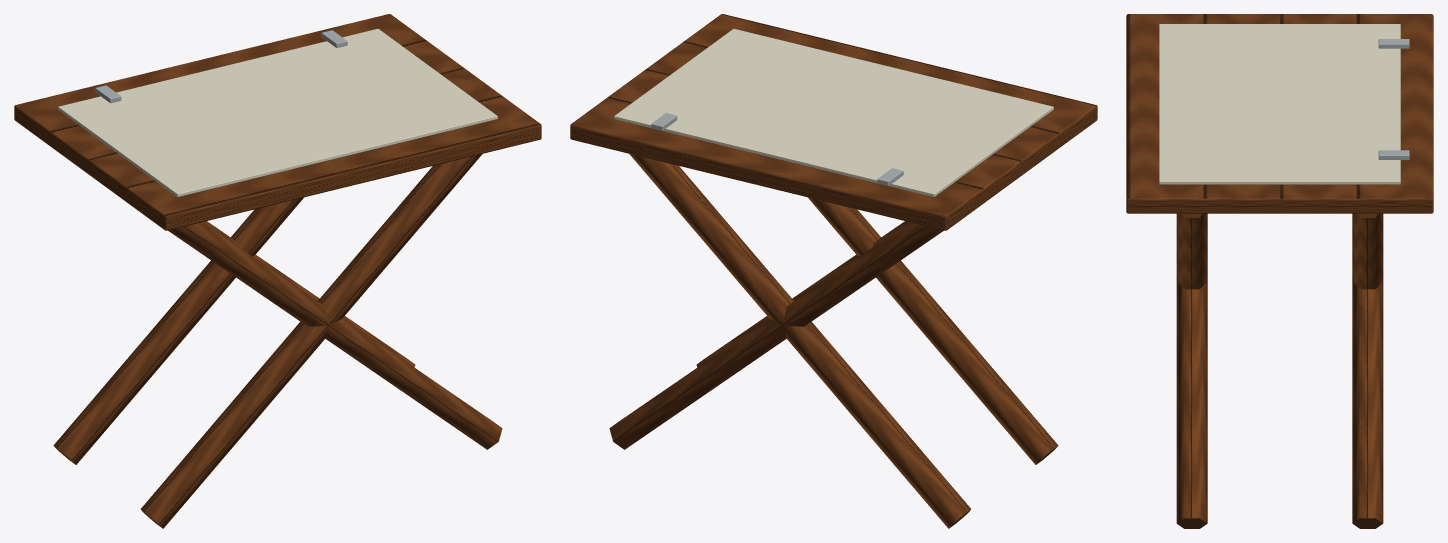
The model's file is prehistoric-expedition-sites-folding-map-board-df27ad61__26129.glb.
3 views of the same model, side by side, from view 1: azimuth 30°, elevation 25°; view 2: azimuth 150°, elevation 25°; view 3: azimuth 270°, elevation 25° (orthographic).
Parts seen in each view (by area): view 1: folding-map-board; view 2: folding-map-board; view 3: folding-map-board.
Part boxes in pixels (bbox=[...]): folding-map-board: bbox=[14, 14, 541, 528]; folding-map-board: bbox=[570, 14, 1097, 528]; folding-map-board: bbox=[1126, 14, 1433, 528].
Size of the model in its own units: 1 by 0.8847 by 0.7.
Materials: 3 (1 with a texture image).
